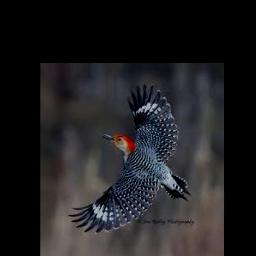Woodpecker: (68, 83, 191, 234)
